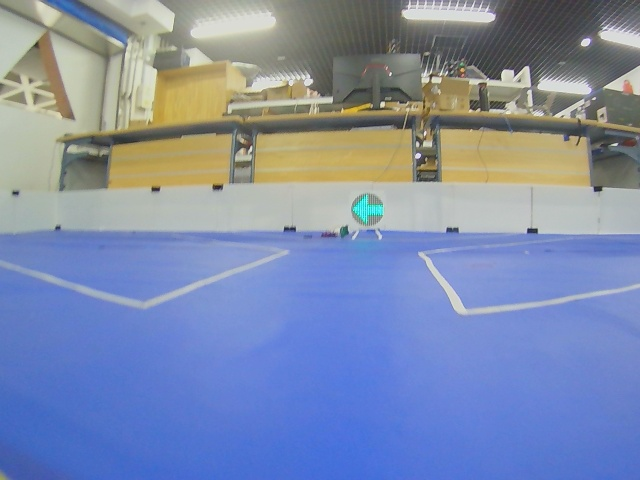left_green: (351, 193, 384, 226)
